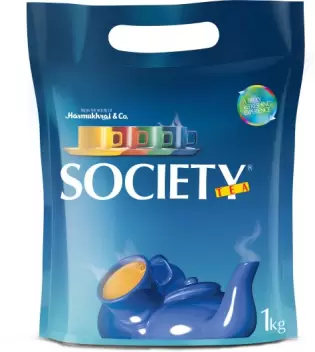society: (36, 72, 298, 344)
